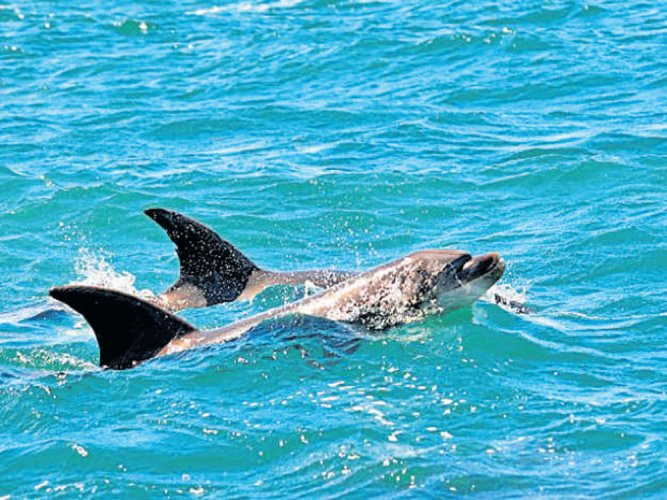dolphin: (34, 199, 529, 376)
